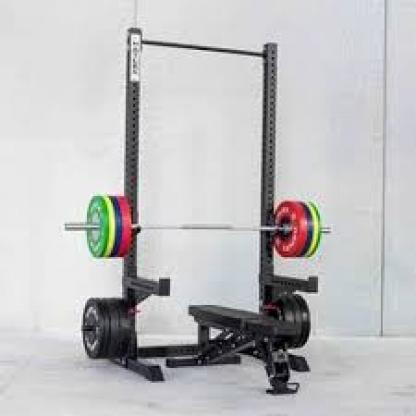smith machine: (65, 25, 333, 396)
